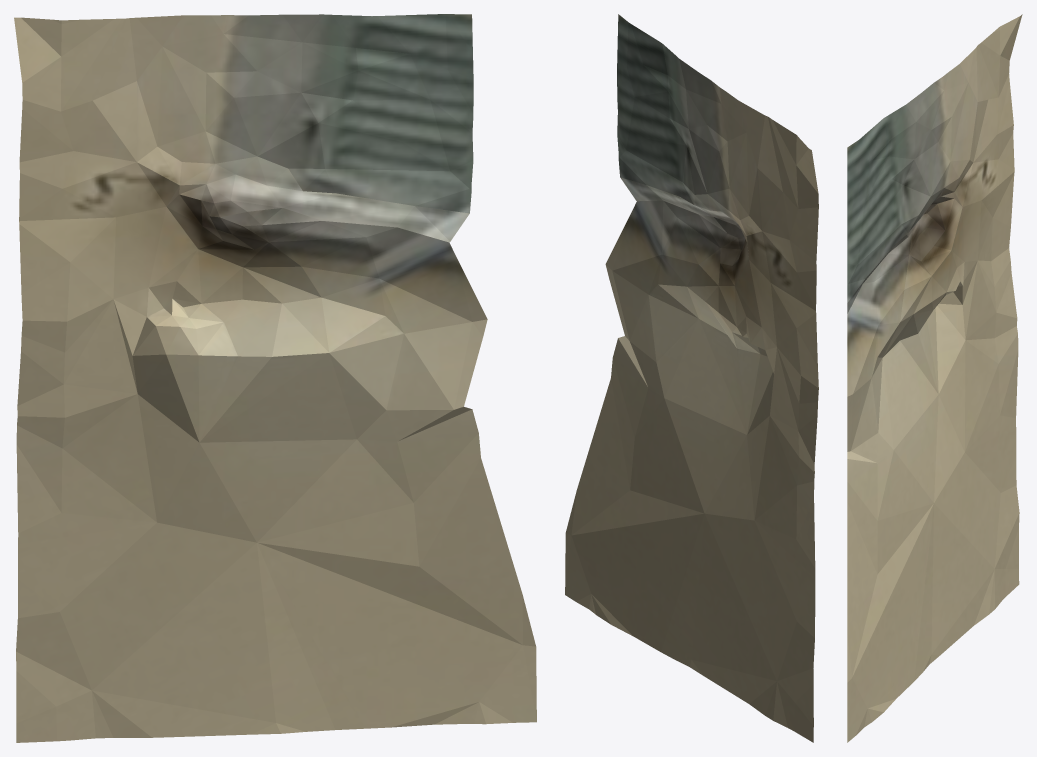
3 views of the same model, side by side, from view 1: azimuth 30°, elevation 25°; view 2: azimuth 150°, elevation 25°; view 3: azimuth 270°, elevation 25° (orthographic). The views are drawn at different scales.
Size of the model in its own units: 0.9973 by 1.67 by 0.4661.
Materials: 2 (2 with a texture image).
